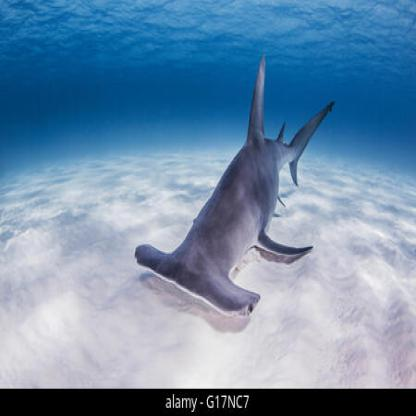hammerhead_Shark: (132, 29, 338, 326)
